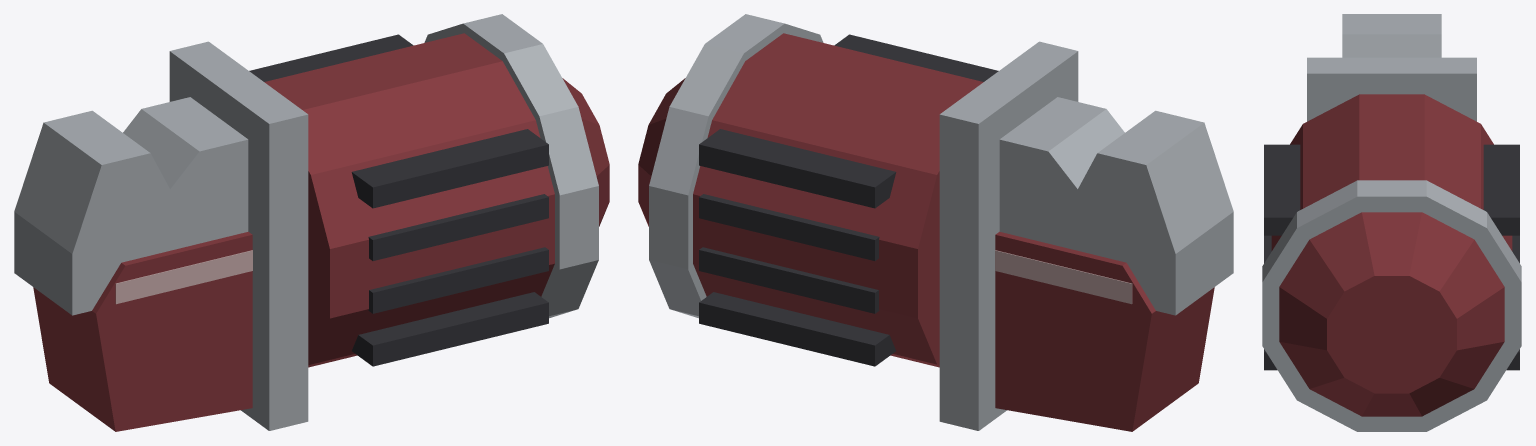
File: beam_repeater.obj
The picture shows the model from 3 angles, left to right: view 1: azimuth 30°, elevation 25°; view 2: azimuth 150°, elevation 25°; view 3: azimuth 270°, elevation 25°; orthographic projection. The views are drawn at different scales.
Parts seen in each view (by area): view 1: beam_repeater; view 2: beam_repeater; view 3: beam_repeater.
Boxes of the visible parts, <box> form: beam_repeater: <box>14,14,609,431</box>; beam_repeater: <box>638,14,1233,431</box>; beam_repeater: <box>1262,14,1521,431</box>.
Bounding box in the file's own units: 0.7344 × 0.408 × 0.3671.
